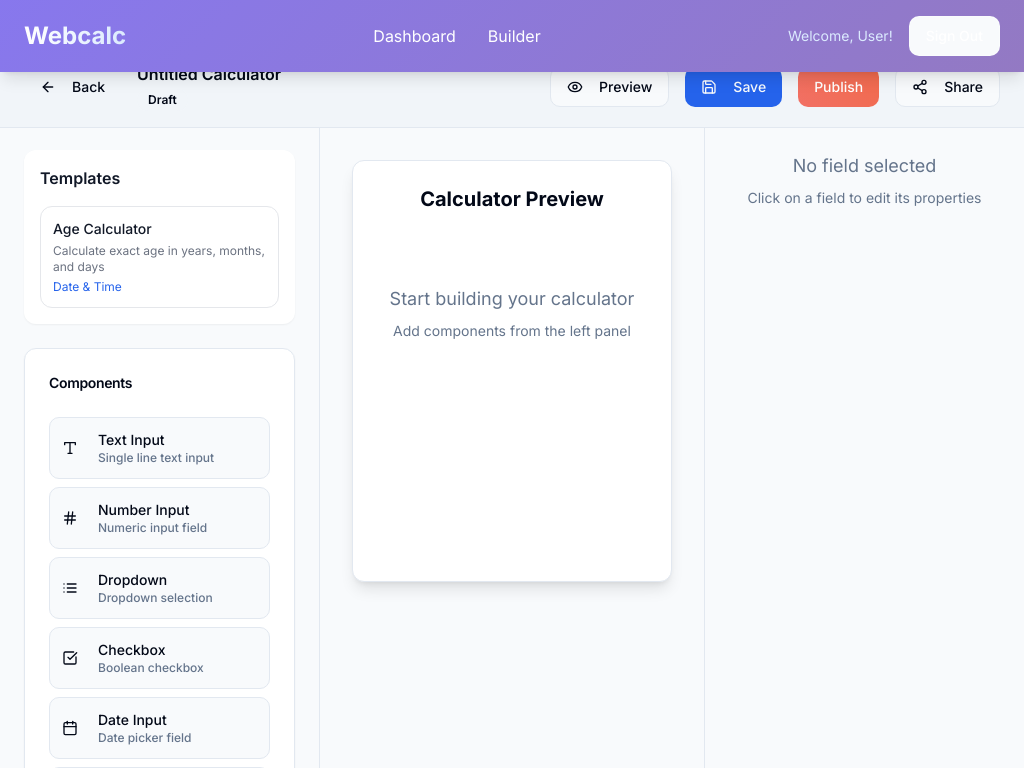
Test: Calculator Builder Comprehensive Tests › Component Addition and Canvas Interaction › adds text input component to canvas and displays it
The image size is (1024, 768).
(page scrolled)
Expected: the element with test id "canvas" is shown, [320,128,704,767]
Add text input component
Step 1. Click the button with test id "button-add-text" → (160, 448), box [49,417,270,479]
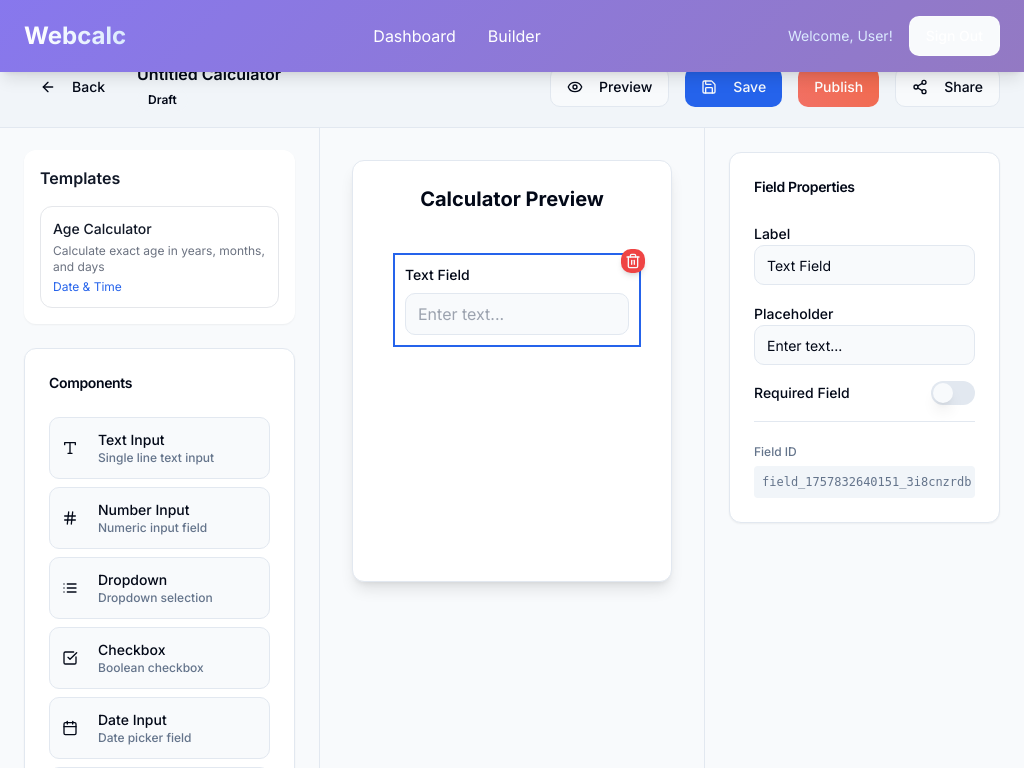
Now the element with test id "^field-field_" is shown, box [397,257,637,343]
